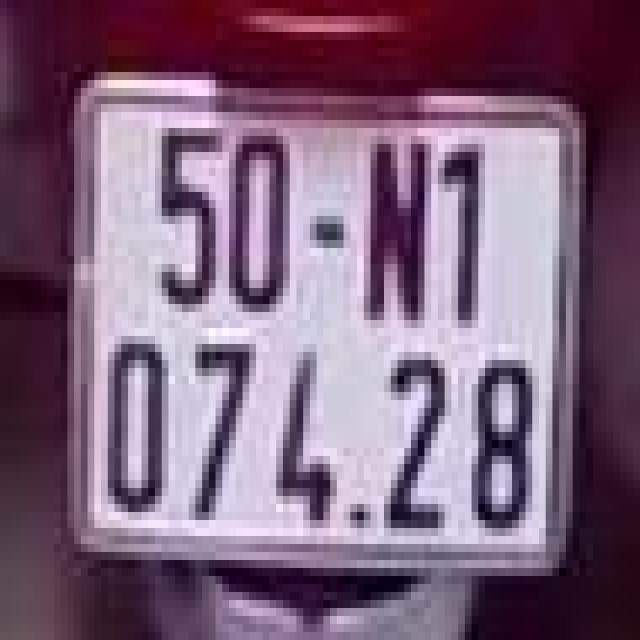0: (98, 332, 172, 516), (232, 128, 300, 312)
1: (438, 128, 492, 336)
2: (384, 344, 458, 544)
4: (270, 340, 344, 524)
5: (148, 120, 222, 312)
7: (178, 328, 260, 528)
8: (472, 348, 539, 532)
N: (360, 124, 434, 332)
